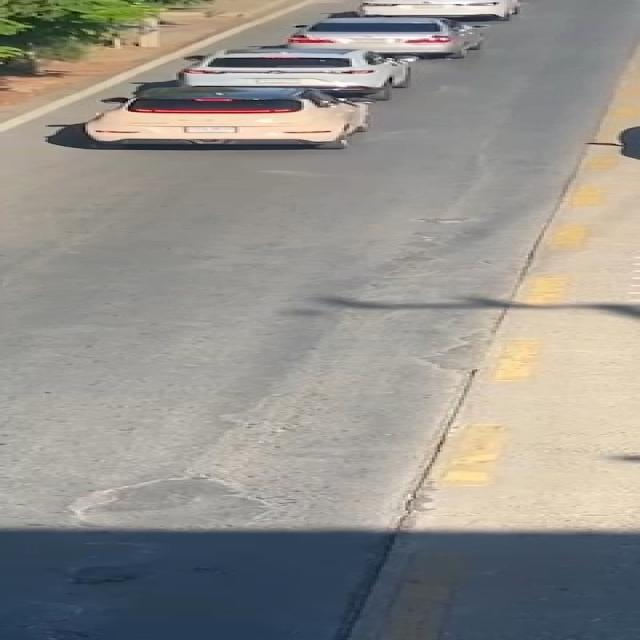car: (69, 88, 404, 157), (137, 46, 442, 93), (263, 13, 514, 57)
